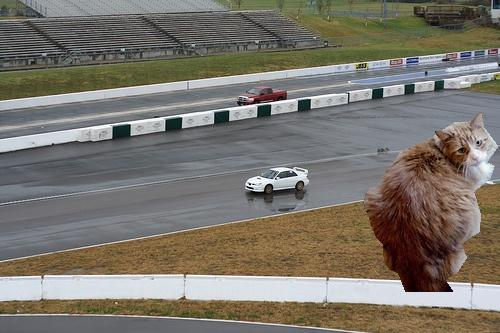tampered: (364, 112, 498, 292)
